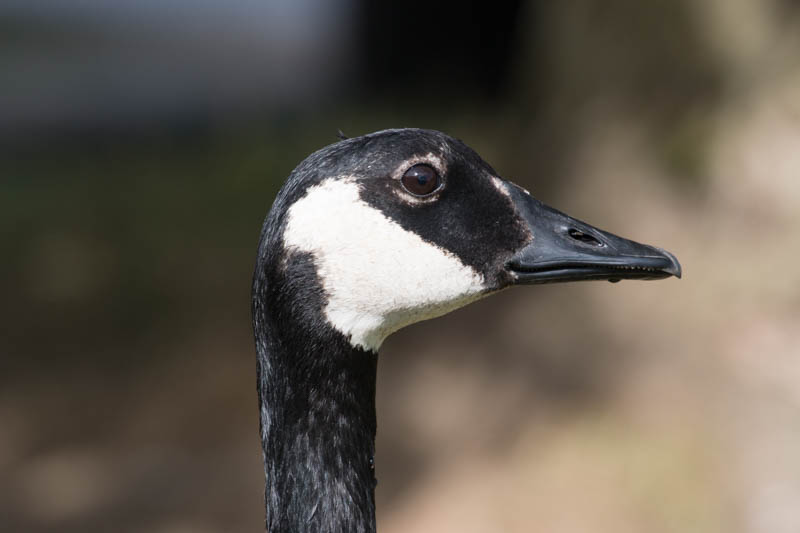goose-head: (251, 128, 681, 353)
